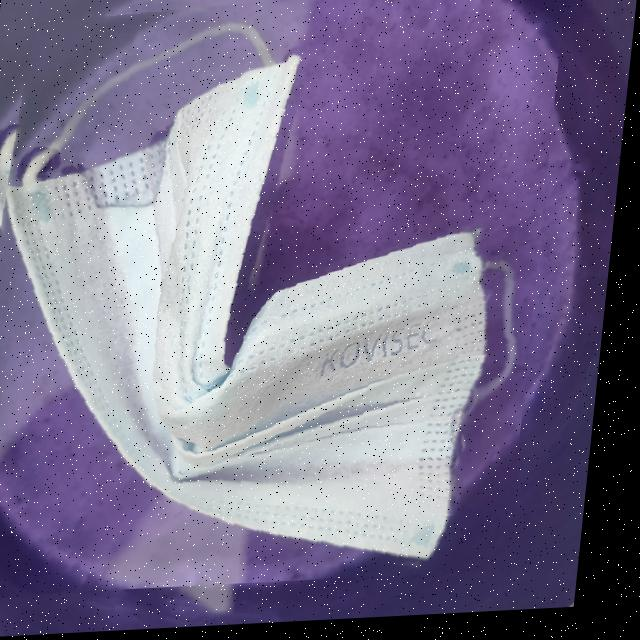mask: (0, 0, 567, 599)
